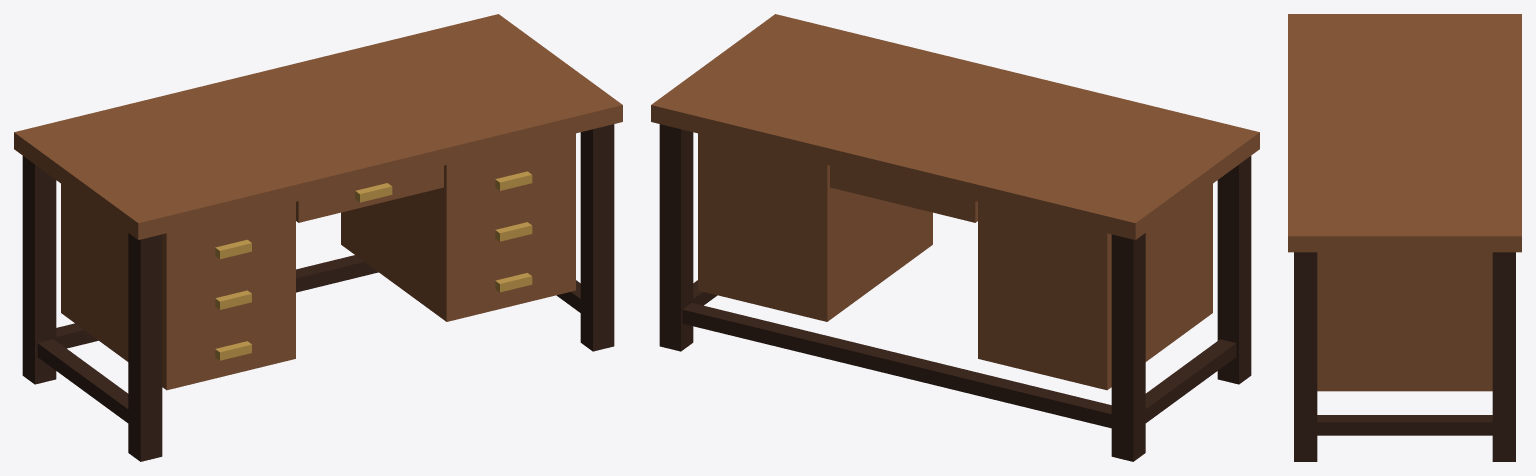
Rendered from Desk.fbx.
3 views of the same model, side by side, from view 1: azimuth 30°, elevation 25°; view 2: azimuth 150°, elevation 25°; view 3: azimuth 270°, elevation 25° (orthographic). The views are drawn at different scales.
Visible parts, largest first — view 1: Desk_Mesh; view 2: Desk_Mesh; view 3: Desk_Mesh.
Boxes of the visible parts, x1=… form: Desk_Mesh: x1=14, y1=14, x2=622, y2=461; Desk_Mesh: x1=651, y1=14, x2=1259, y2=461; Desk_Mesh: x1=1288, y1=14, x2=1521, y2=461.
Bounding box in the file's own units: 180 × 86 × 80.
